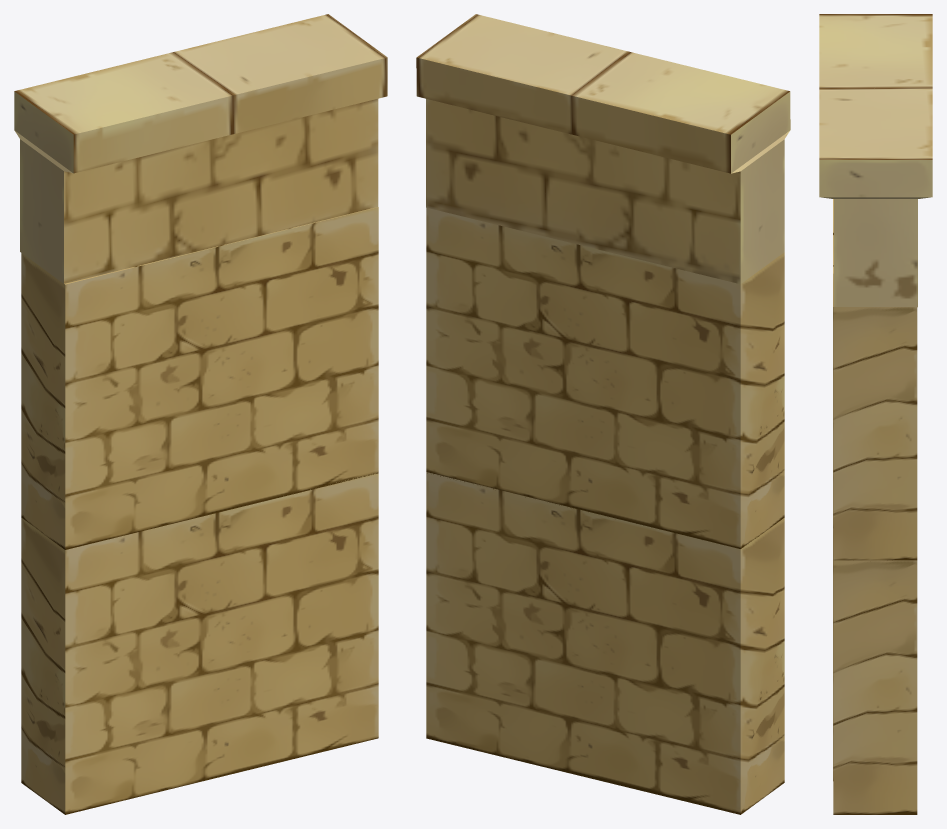
Rendered from Rome_Village_Props_39.FBX.
3 renders of one model, left to right at view 1: azimuth 30°, elevation 25°; view 2: azimuth 150°, elevation 25°; view 3: azimuth 270°, elevation 25°, orthographic. The views are drawn at different scales.
Parts seen in each view (by area): view 1: Rome_Village_Props_39; view 2: Rome_Village_Props_39; view 3: Rome_Village_Props_39.
Part boxes in pixels (x1,y1,x2,y2): Rome_Village_Props_39: (14, 14, 387, 814); Rome_Village_Props_39: (416, 14, 790, 814); Rome_Village_Props_39: (819, 14, 932, 814).
Bounding box in the file's own units: 103 × 213 × 33.46.
